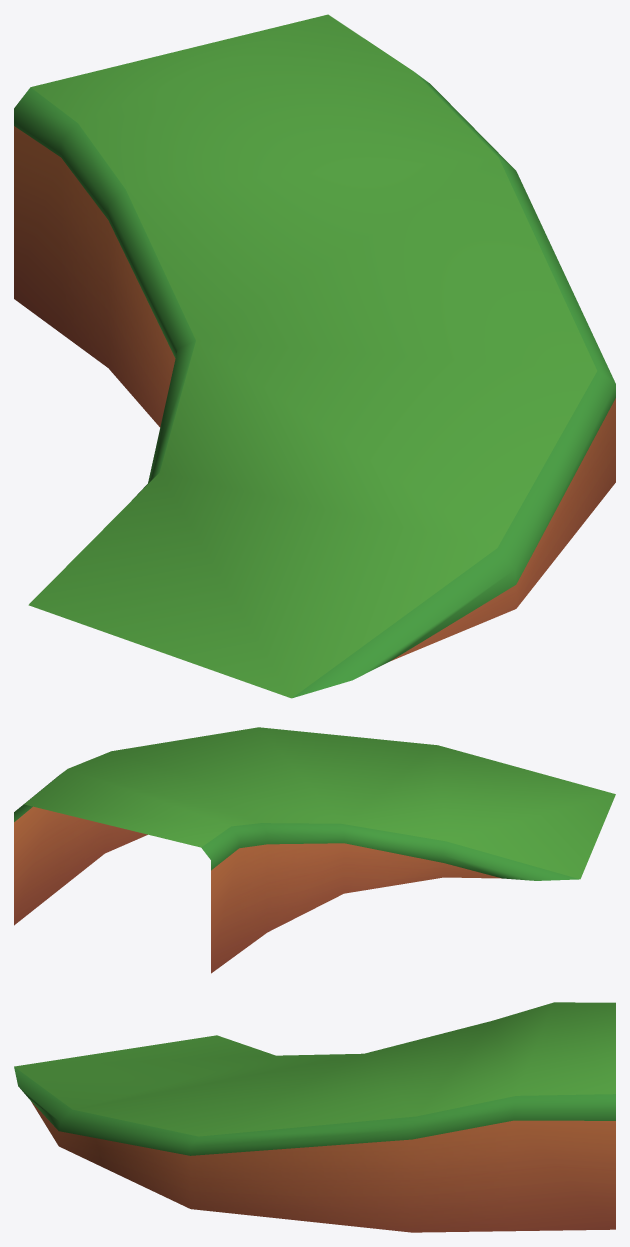
File: Bent Slope 01.FBX
The picture shows the model from 3 angles, top to bottom: view 1: azimuth 30°, elevation 25°; view 2: azimuth 150°, elevation 25°; view 3: azimuth 270°, elevation 25°; orthographic projection. The views are drawn at different scales.
Visible parts, largest first — view 1: Bent Slope 01; view 2: Bent Slope 01; view 3: Bent Slope 01.
Boxes of the visible parts, x1=… form: Bent Slope 01: x1=14, y1=14, x2=615, y2=698; Bent Slope 01: x1=14, y1=727, x2=615, y2=973; Bent Slope 01: x1=14, y1=1002, x2=615, y2=1232.
Bounding box in the file's own units: 972 × 300 × 1254.
Materials: 1 (1 with a texture image).
